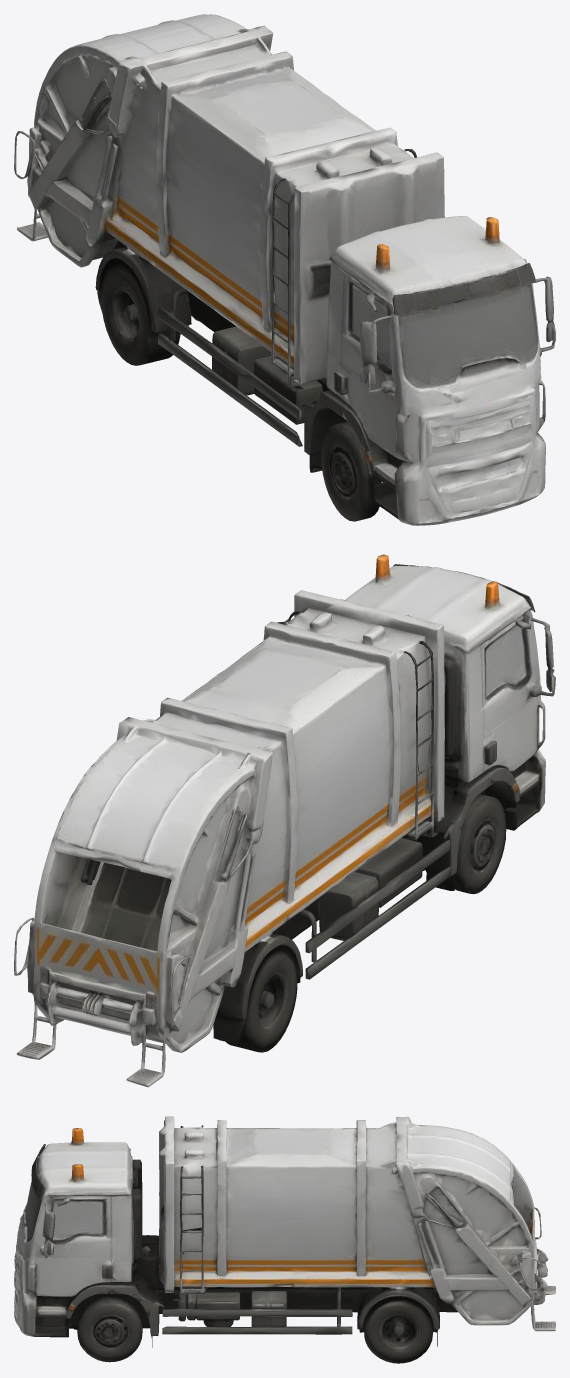
The model's file is caminhao_lixo.glb.
3 views of the same model, one above another, from view 1: azimuth 30°, elevation 25°; view 2: azimuth 150°, elevation 25°; view 3: azimuth 270°, elevation 25° (orthographic). The views are drawn at different scales.
Visible parts, largest first — view 1: tripo_node_98e67ca9-3bdc-4ad6-a2bc-a3d9df29b3d9; view 2: tripo_node_98e67ca9-3bdc-4ad6-a2bc-a3d9df29b3d9; view 3: tripo_node_98e67ca9-3bdc-4ad6-a2bc-a3d9df29b3d9.
Boxes of the visible parts, <box> form: tripo_node_98e67ca9-3bdc-4ad6-a2bc-a3d9df29b3d9: <box>14,14,555,525</box>; tripo_node_98e67ca9-3bdc-4ad6-a2bc-a3d9df29b3d9: <box>14,554,555,1087</box>; tripo_node_98e67ca9-3bdc-4ad6-a2bc-a3d9df29b3d9: <box>14,1116,555,1363</box>.
Bounding box in the file's own units: 2.5 × 3.67 × 9.
1 material, 1 textured.
